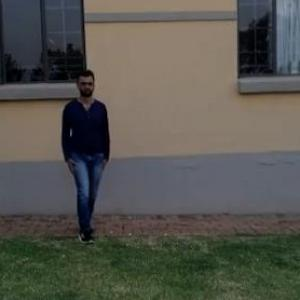follow: (62, 68, 111, 236)
